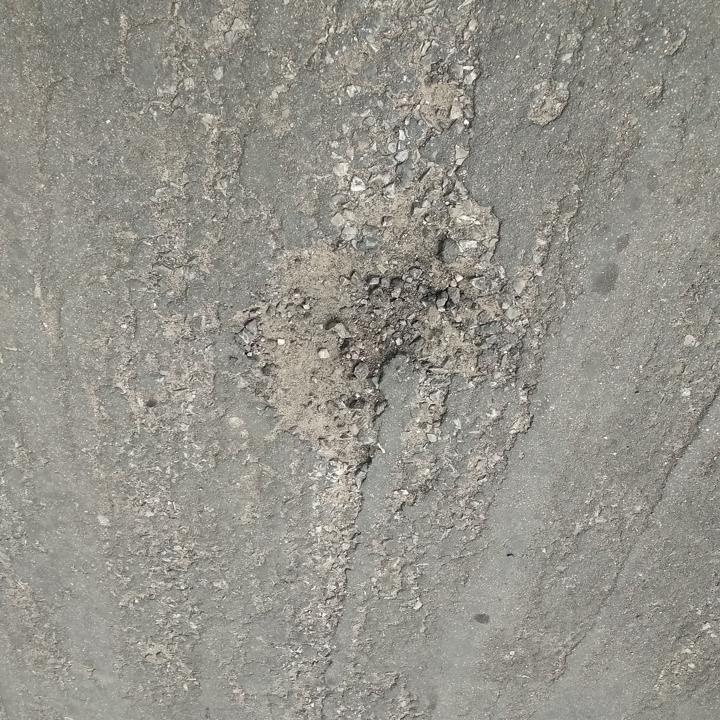pothole: (228, 169, 491, 474)
